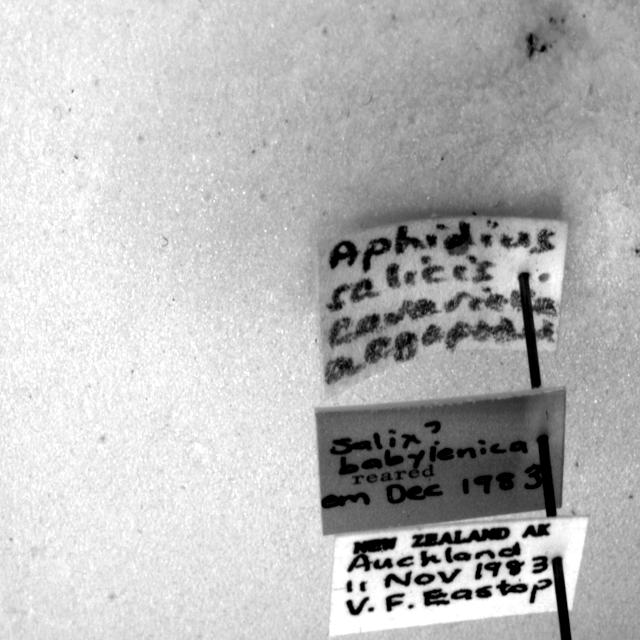hand_label: (318, 216, 568, 398)
mixed_label: (316, 390, 565, 534), (329, 516, 589, 636)
